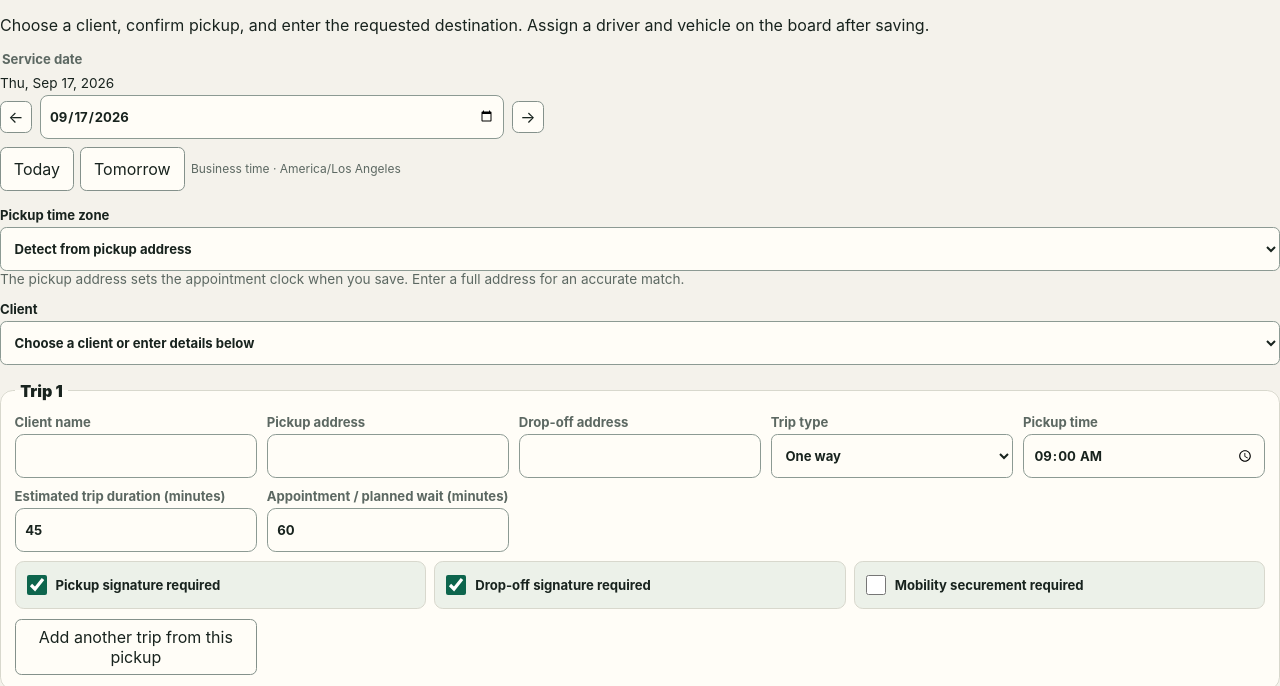
it: dispatch route entry controls › adds a trip from the same pickup, and says so, rather than promising an extra drop-off (WEB-A-030)
Expected: the text "Trip 1" is shown, [20, 380, 63, 400]
Type "100 Synthetic Way" into the field labelled "Pickup address".
click(388, 456); type("100 Synthetic Way")  # box [267, 434, 509, 478]
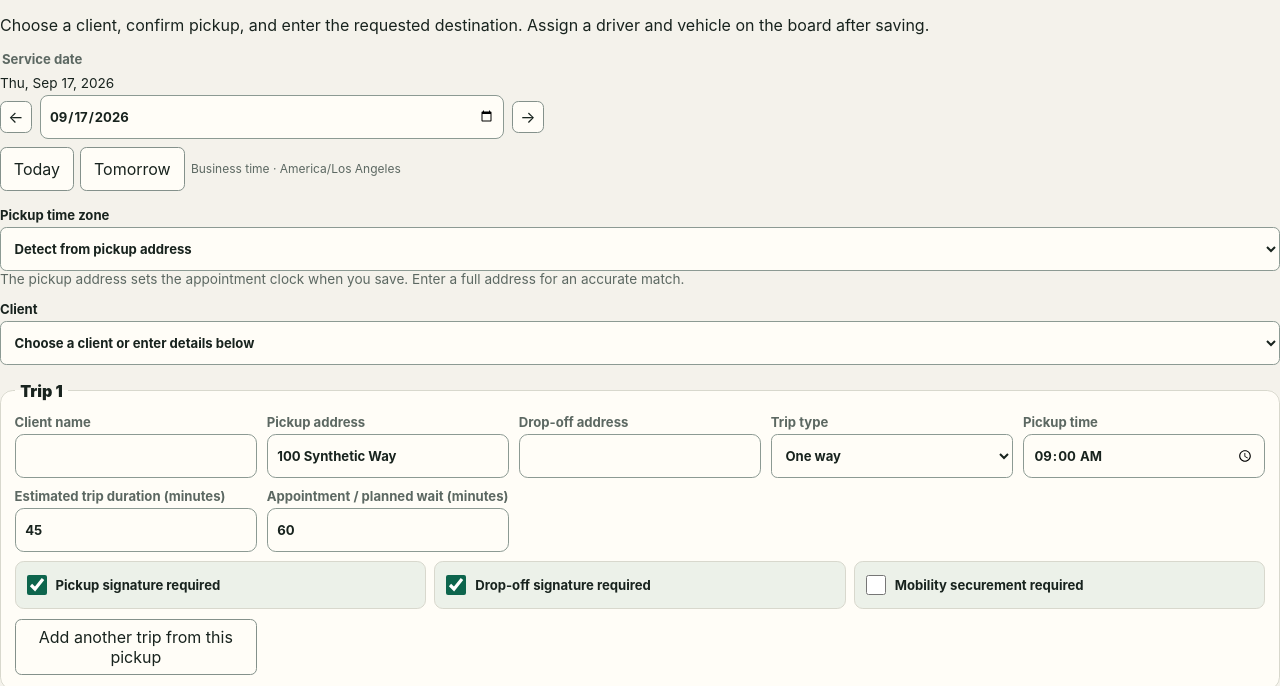
Type "200 Synthetic Clinic" into the field labelled "Drop-off address".
click(640, 456); type("200 Synthetic Clinic")  # box [519, 434, 761, 478]
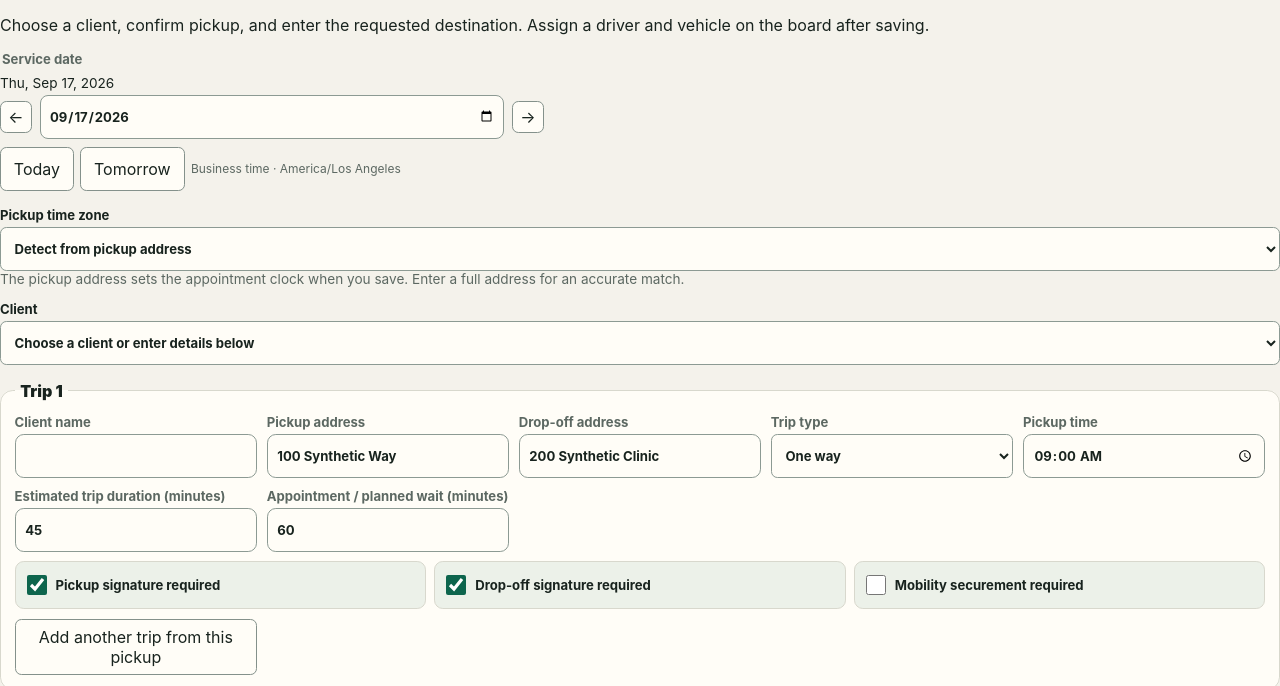
Click the button "Add another trip from this pickup".
click(136, 647)  # box [15, 619, 257, 675]
(page scrolled)
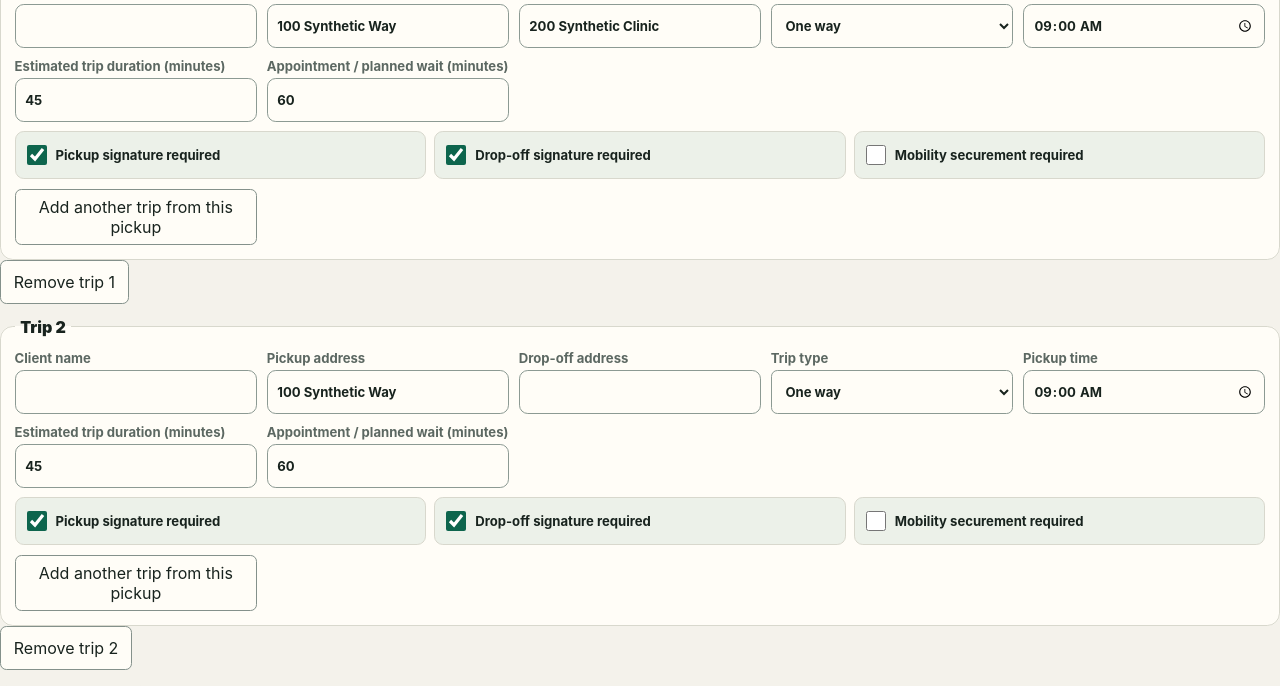
Result: the text "Trip 2" is shown at [20, 317, 66, 337]
